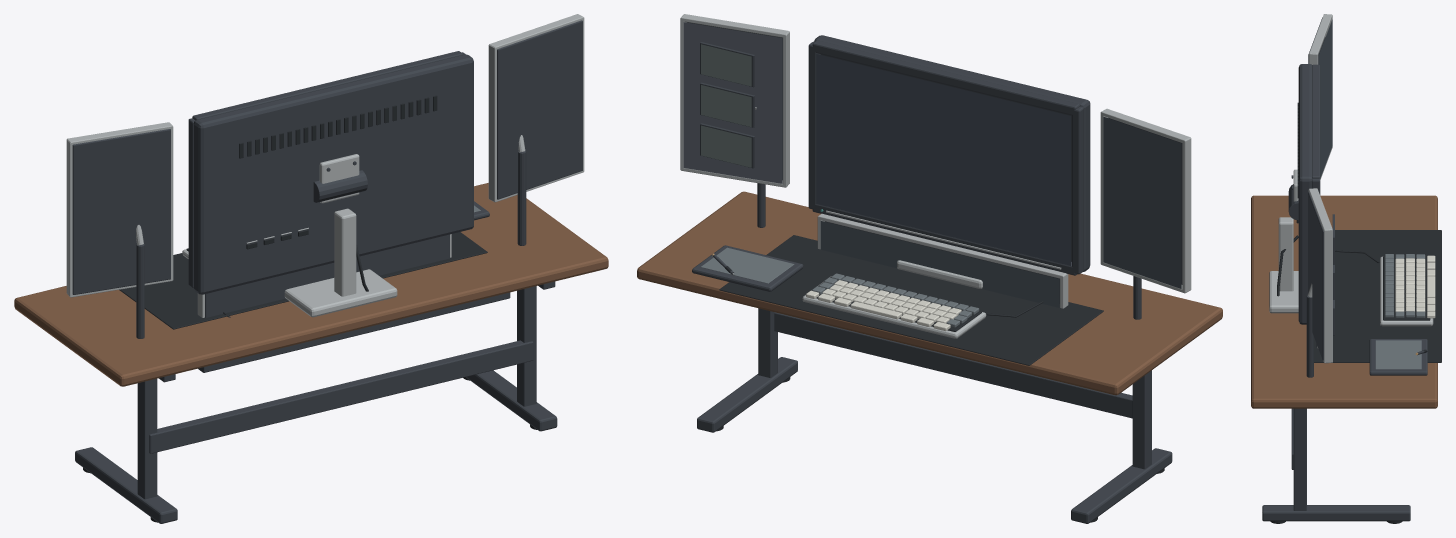
The model's file is fullfilm_v2_workbench.glb.
3 views of the same model, side by side, from view 1: azimuth 30°, elevation 25°; view 2: azimuth 150°, elevation 25°; view 3: azimuth 270°, elevation 25° (orthographic). The views are drawn at different scales.
Parts seen in each view (by area): view 1: Monitor_RearShell, Desk_WalnutSlab, Desk_SteelTrestleAndFeet, LeftHierarchy_Backplate, RightAssets_Backplate, Timeline_Backplate, Desk_DeskMat, MonitorStand_WeightedFoot, RightAssets_Perimeter, LeftHierarchy_Perimeter, Monitor_FrontBezel, Monitor_RearVentBank (+6 smaller); view 2: UI_Main_16x9, Desk_WalnutSlab, Desk_SteelTrestleAndFeet, Desk_DeskMat, UI_LeftHierarchy, UI_RightAssets, Monitor_FrontBezel, UI_Timeline, Monitor_RearShell, Keyboard_IvoryKeycaps, LeftHierarchy_Perimeter, RightAssets_Perimeter (+9 smaller); view 3: Desk_WalnutSlab, Desk_DeskMat, Desk_SteelTrestleAndFeet, Monitor_RearShell, Keyboard_IvoryKeycaps, RightAssets_Backplate, UI_LeftHierarchy, RightAssets_Perimeter, PenTablet_ActiveArea, Monitor_FrontBezel, MonitorStand_Column, MonitorStand_WeightedFoot (+7 smaller).
Boxes of the visible parts, <box> form: Monitor_RearShell: <box>193,54,473,294</box>; Desk_WalnutSlab: <box>14,183,608,386</box>; Desk_SteelTrestleAndFeet: <box>75,281,557,523</box>; LeftHierarchy_Backplate: <box>72,129,170,294</box>; RightAssets_Backplate: <box>497,20,582,199</box>; Timeline_Backplate: <box>205,234,449,317</box>; Desk_DeskMat: <box>119,232,487,329</box>; MonitorStand_WeightedFoot: <box>284,269,397,317</box>; RightAssets_Perimeter: <box>488,14,584,202</box>; LeftHierarchy_Perimeter: <box>66,122,173,297</box>; Monitor_FrontBezel: <box>188,51,465,288</box>; Monitor_RearVentBank: <box>239,95,437,158</box>; UI_Main_16x9: <box>816,54,1070,265</box>; Desk_WalnutSlab: <box>637,191,1222,395</box>; Desk_SteelTrestleAndFeet: <box>697,308,1172,523</box>; Desk_DeskMat: <box>719,235,1103,365</box>; UI_LeftHierarchy: <box>1103,116,1181,288</box>; UI_RightAssets: <box>683,22,782,183</box>; Monitor_FrontBezel: <box>808,40,1083,275</box>; UI_Timeline: <box>820,221,1059,307</box>; Monitor_RearShell: <box>814,35,1090,271</box>; Keyboard_IvoryKeycaps: <box>806,280,961,331</box>; LeftHierarchy_Perimeter: <box>1100,108,1191,293</box>; RightAssets_Perimeter: <box>680,14,789,187</box>; Desk_WalnutSlab: <box>1251,195,1437,408</box>; Desk_DeskMat: <box>1314,230,1441,362</box>; Desk_SteelTrestleAndFeet: <box>1262,408,1410,523</box>; Monitor_RearShell: <box>1298,64,1312,324</box>; Keyboard_IvoryKeycaps: <box>1395,255,1435,318</box>; RightAssets_Backplate: <box>1308,192,1323,360</box>; UI_LeftHierarchy: <box>1318,19,1332,177</box>; RightAssets_Perimeter: <box>1308,188,1332,363</box>; PenTablet_ActiveArea: <box>1375,340,1421,369</box>; Monitor_FrontBezel: <box>1312,64,1320,195</box>; MonitorStand_Column: <box>1278,217,1293,291</box>; MonitorStand_WeightedFoot: <box>1269,271,1298,313</box>.
Size of the model in its own units: 2.55 by 1.76 by 0.95.
